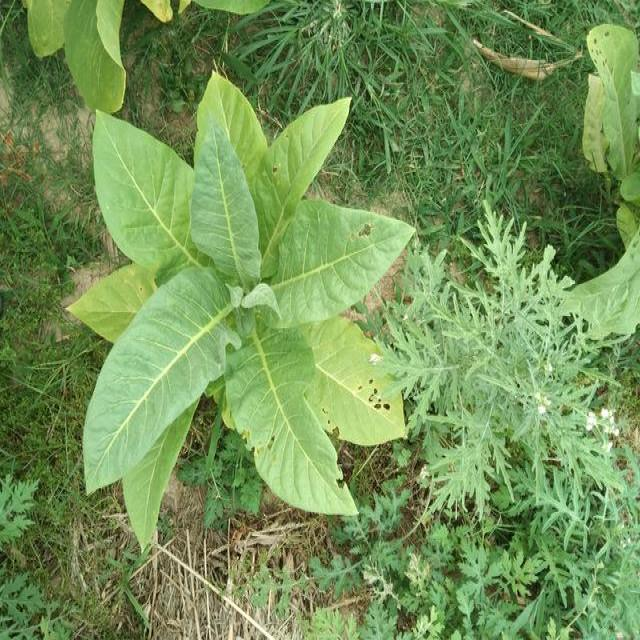crop: (82, 68, 412, 548)
